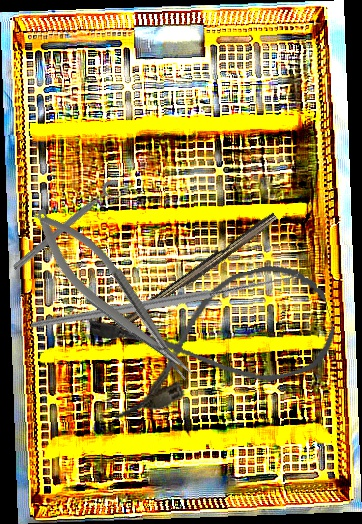Cannula: (87, 253, 343, 423)
Fixation Ring: (9, 176, 128, 280)
Hook Surgical: (30, 183, 303, 407)
Needle Holder: (21, 194, 202, 397)
Scalpel Handle: (105, 209, 281, 343)
